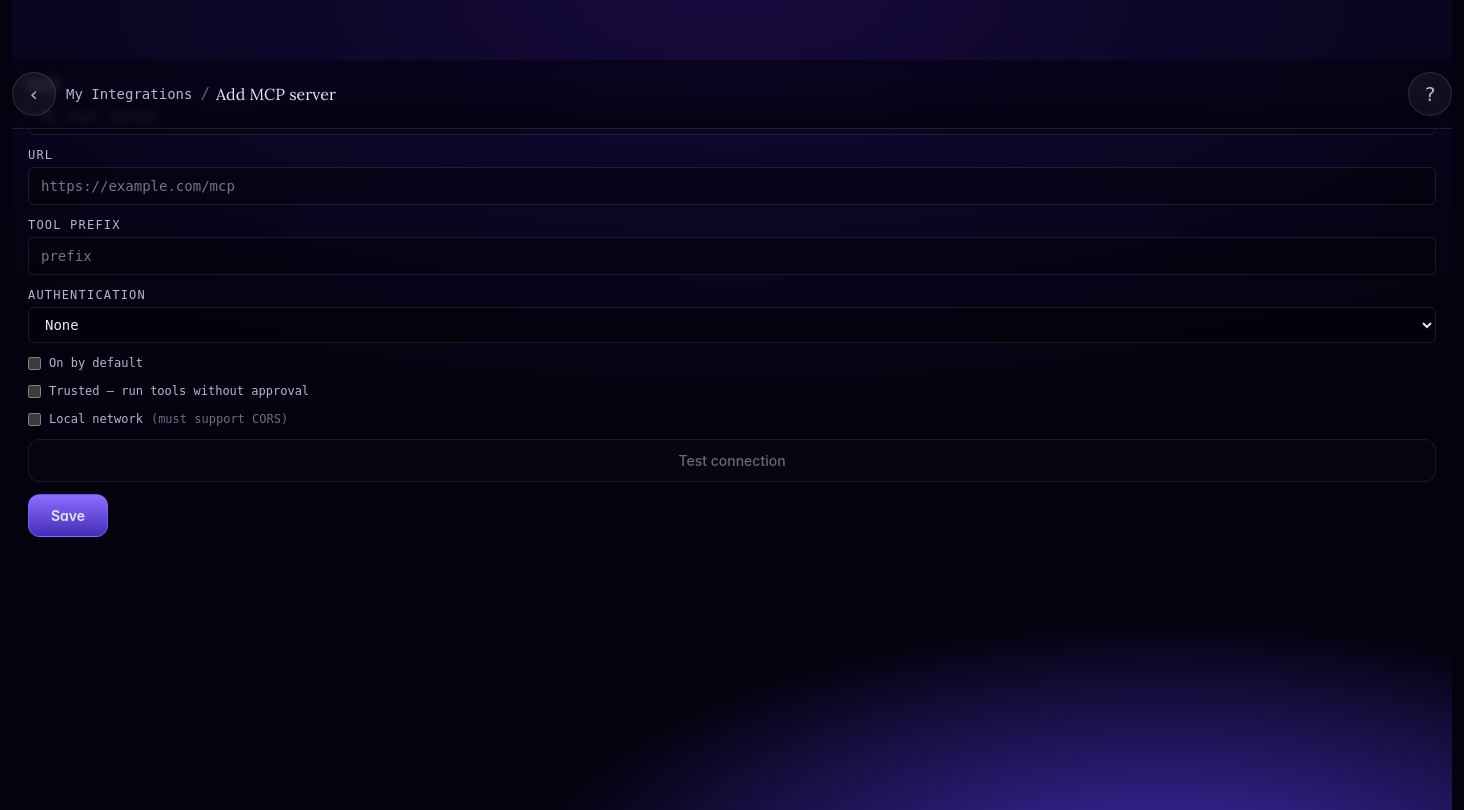
IntegrationServerPage › disables Test connection until a URL is present
Check: the button "Test connection" is disabled, box [28, 439, 1436, 482]
Type "https://x/mcp" into the field labelled "URL" at (732, 186), box [28, 167, 1436, 205]
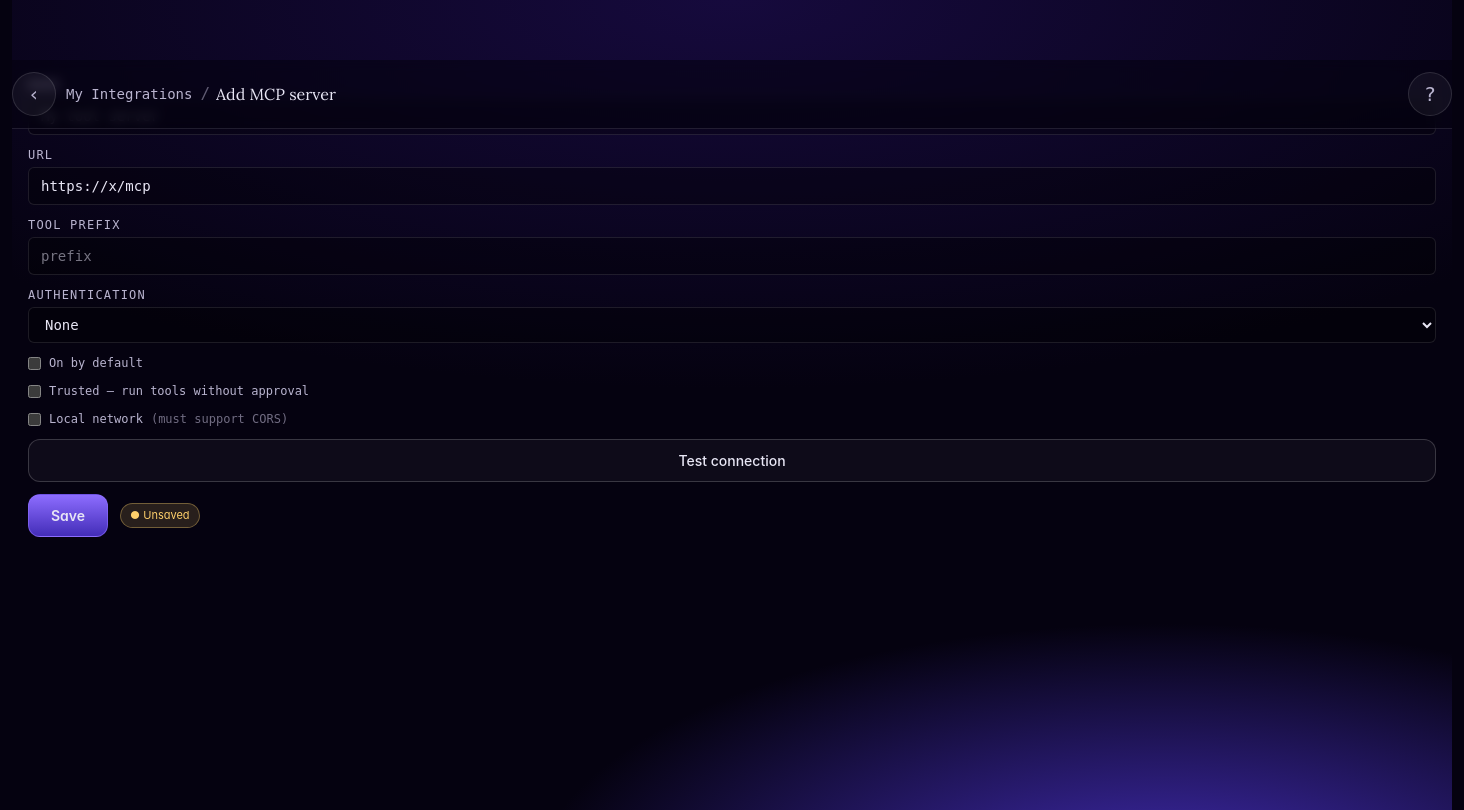
Check: the button "Test connection" is enabled, box [28, 439, 1436, 482]
